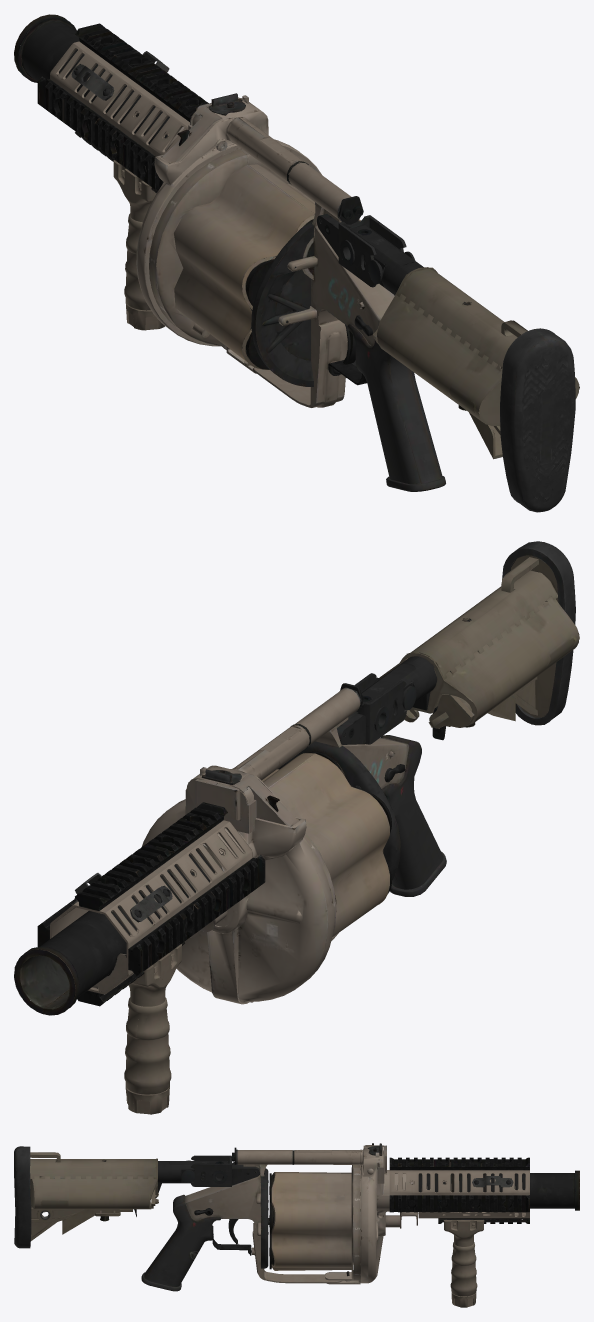
3 views of the same model, one above another, from view 1: azimuth 30°, elevation 25°; view 2: azimuth 150°, elevation 25°; view 3: azimuth 270°, elevation 25° (orthographic). The views are drawn at different scales.
Visible parts, largest first — view 1: Object.004_low.003_Parte02_2_0, Object.001_low.002_Parte03_2_0, Object.006_low.001_Parte04_2_0, Object.005_low.001_Parte04_0, Object.003_low.002_Parte02_0, Object.003_low.001_Parte03_2_0, Object.003_low.003_Parte01_0, Object.001_low.004_Parte01_2_0, Object.005_low.002_Parte03_0, Object.004_low.002_Parte03_0, Buttons_low_Vertical Grip_0, Bullet__0; view 2: Object.003_low.002_Parte02_0, Object.006_low.001_Parte04_2_0, Object.004_low.003_Parte02_2_0, Object.003_low.003_Parte01_0, Object.001_low.004_Parte01_2_0, Object.001_low.002_Parte03_2_0, Buttons_low_Vertical Grip_0, Object.005_low.001_Parte04_0, Object.003_low.001_Parte03_2_0, Object.004_low.002_Parte03_0, Object.005_low.002_Parte03_0; view 3: Object.004_low.003_Parte02_2_0, Object.006_low.001_Parte04_2_0, Object.003_low.002_Parte02_0, Object.003_low.003_Parte01_0, Object.003_low.001_Parte03_2_0, Object.001_low.002_Parte03_2_0, Object.001_low.004_Parte01_2_0, Object.005_low.001_Parte04_0, Buttons_low_Vertical Grip_0, Object.005_low.002_Parte03_0, Object.004_low.002_Parte03_0, Bullet__0.
Boxes of the visible parts, box(x1,y1,x2,y2) form: Object.004_low.003_Parte02_2_0: box(149, 93, 360, 369); Object.001_low.002_Parte03_2_0: box(251, 221, 445, 491); Object.006_low.001_Parte04_2_0: box(377, 267, 579, 434); Object.005_low.001_Parte04_0: box(372, 328, 575, 512); Object.003_low.002_Parte02_0: box(14, 14, 321, 373); Object.003_low.001_Parte03_2_0: box(244, 162, 394, 407); Object.003_low.003_Parte01_0: box(37, 23, 208, 193); Object.001_low.004_Parte01_2_0: box(50, 41, 189, 156); Object.005_low.002_Parte03_0: box(317, 205, 406, 385); Object.004_low.002_Parte03_0: box(286, 161, 505, 374); Buttons_low_Vertical Grip_0: box(113, 160, 165, 330); Bullet__0: box(242, 219, 313, 369); Object.003_low.002_Parte02_0: box(14, 725, 334, 1015); Object.006_low.001_Parte04_2_0: box(379, 555, 579, 727); Object.004_low.003_Parte02_2_0: box(185, 753, 389, 937); Object.003_low.003_Parte01_0: box(37, 802, 265, 1006); Object.001_low.004_Parte01_2_0: box(50, 820, 252, 994); Object.001_low.002_Parte03_2_0: box(277, 735, 446, 896); Buttons_low_Vertical Grip_0: box(124, 944, 181, 1114); Object.005_low.001_Parte04_0: box(404, 541, 575, 740); Object.003_low.001_Parte03_2_0: box(294, 688, 408, 940); Object.004_low.002_Parte03_0: box(290, 589, 514, 789); Object.005_low.002_Parte03_0: box(337, 673, 406, 744); Object.004_low.003_Parte02_2_0: box(268, 1143, 417, 1280); Object.006_low.001_Parte04_2_0: box(30, 1152, 157, 1240); Object.003_low.002_Parte02_0: box(294, 1145, 579, 1284); Object.003_low.003_Parte01_0: box(389, 1157, 529, 1223); Object.003_low.001_Parte03_2_0: box(185, 1150, 342, 1283); Object.001_low.002_Parte03_2_0: box(141, 1168, 268, 1291); Object.001_low.004_Parte01_2_0: box(389, 1170, 529, 1218); Object.005_low.001_Parte04_0: box(14, 1146, 158, 1248); Buttons_low_Vertical Grip_0: box(443, 1220, 484, 1307); Object.005_low.002_Parte03_0: box(190, 1149, 259, 1255); Object.004_low.002_Parte03_0: box(103, 1147, 294, 1254); Bullet__0: box(269, 1173, 274, 1269).
Bounding box in the file's own units: 0.1752 × 0.2453 × 0.7999.
10 materials, 10 textured.
